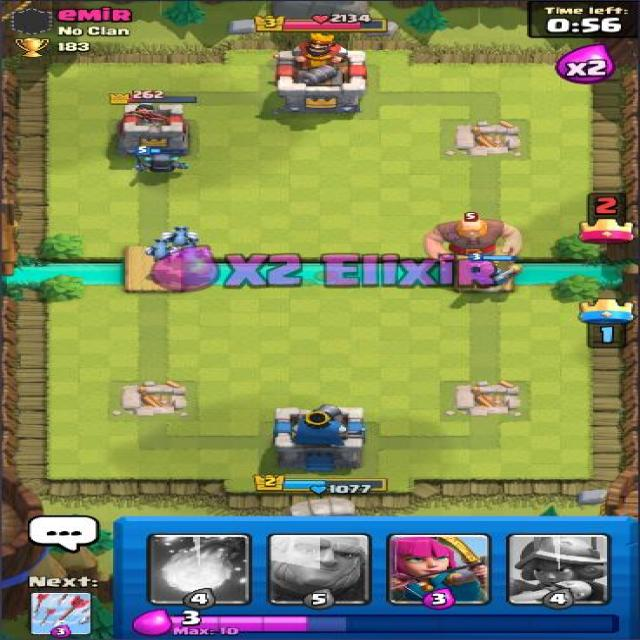Enemy-Giant: (419, 212, 525, 266)
Player-Knight: (458, 252, 530, 296)
Player-MiniPEKKA: (132, 145, 191, 175)
Player-Minion: (167, 243, 216, 273), (141, 238, 184, 265), (160, 224, 202, 251)
